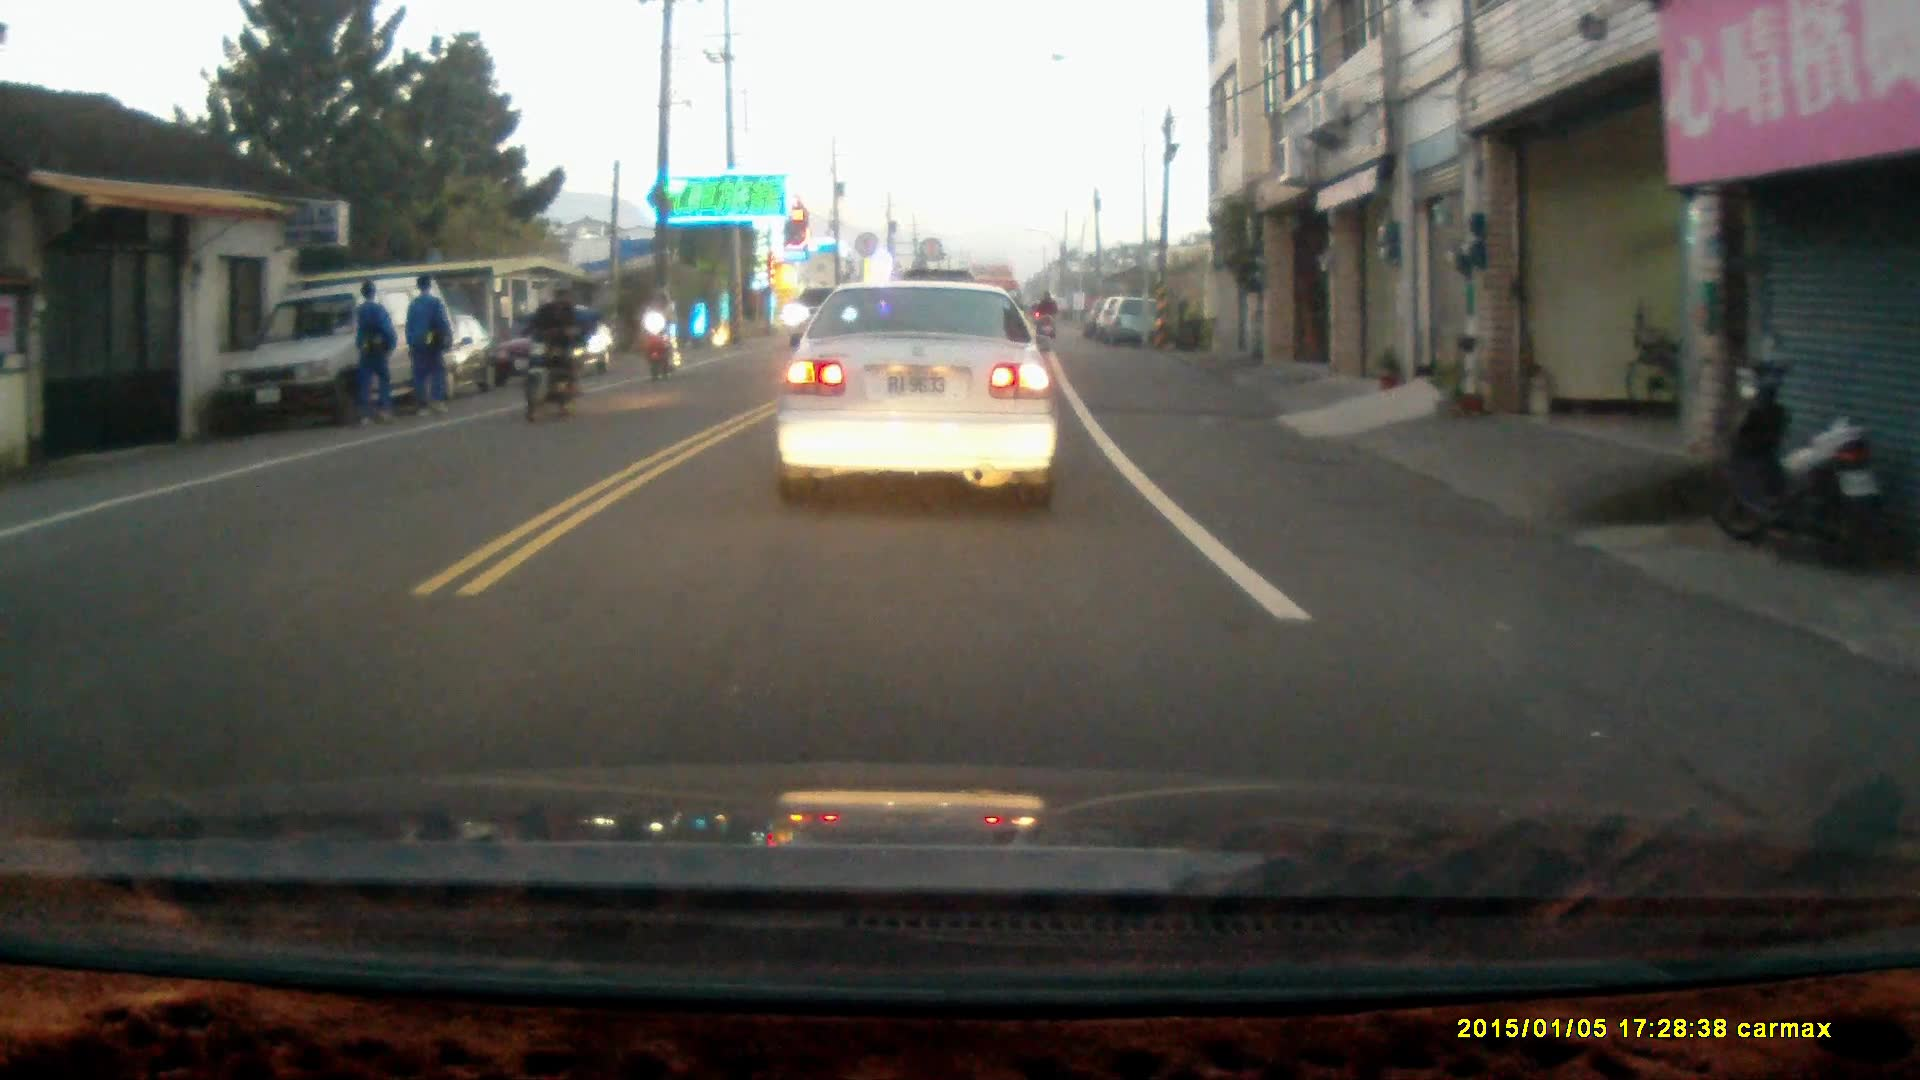pedestrian: (348, 278, 399, 428), (404, 272, 452, 418)
rider: (511, 281, 600, 424), (642, 286, 680, 381)
vehicle: (773, 277, 1062, 511), (220, 275, 462, 424), (485, 304, 609, 381), (1101, 299, 1165, 352)
